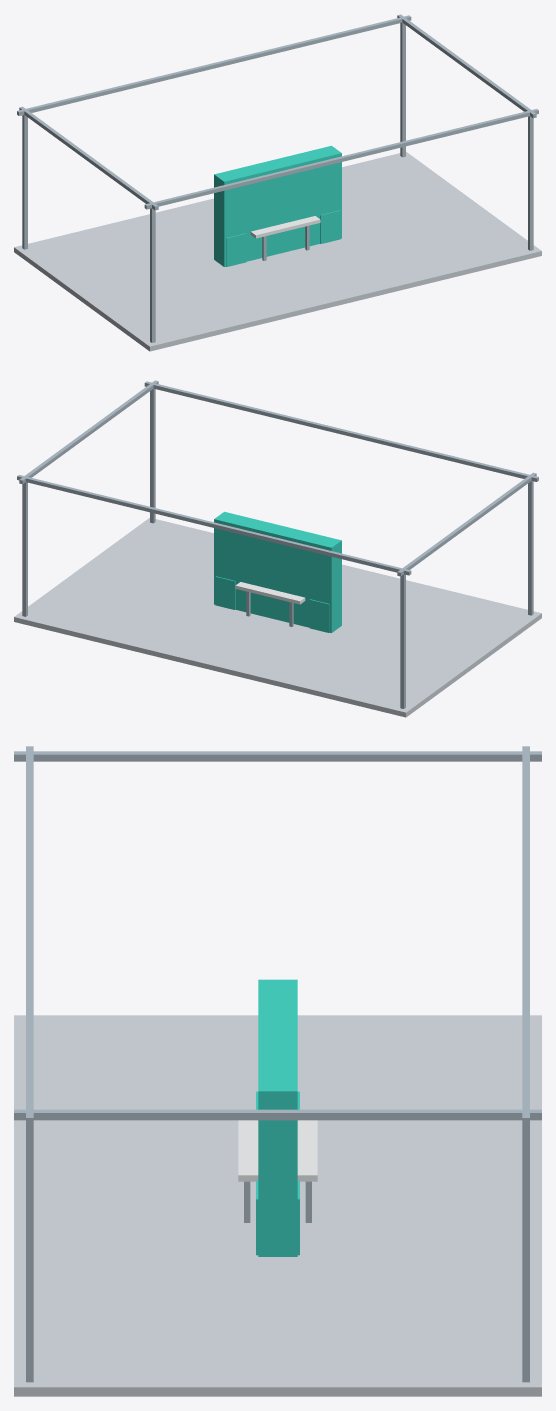
3 renders of one model, top to bottom at view 1: azimuth 30°, elevation 25°; view 2: azimuth 150°, elevation 25°; view 3: azimuth 270°, elevation 25°, orthographic. The views are drawn at different scales.
Parts seen in each view (by area): view 1: Exhibition Booth Concept; view 2: Exhibition Booth Concept; view 3: Exhibition Booth Concept.
Part boxes in pixels (bbox=[...]): Exhibition Booth Concept: bbox=[14, 14, 541, 351]; Exhibition Booth Concept: bbox=[14, 380, 541, 717]; Exhibition Booth Concept: bbox=[14, 746, 541, 1396].
Bounding box in the file's own units: 10 × 3.49 × 6.
